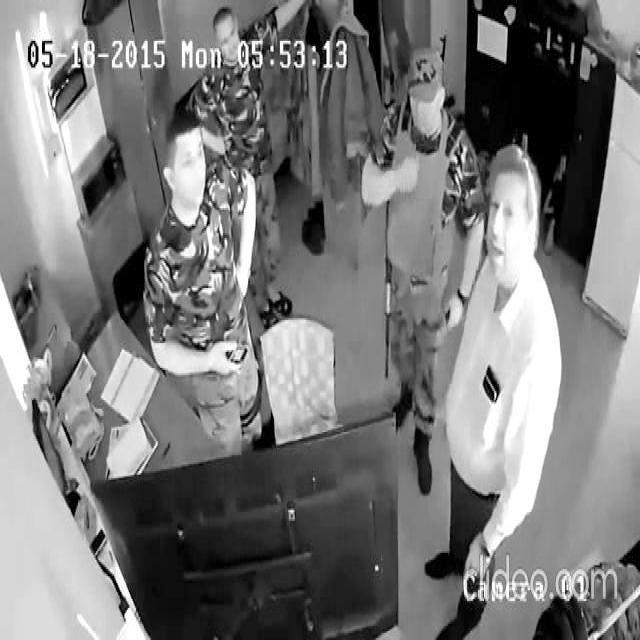gun: (422, 142, 564, 640), (361, 28, 486, 500), (141, 105, 266, 457), (182, 0, 310, 331), (538, 112, 577, 258), (382, 244, 393, 386), (438, 33, 456, 115)
